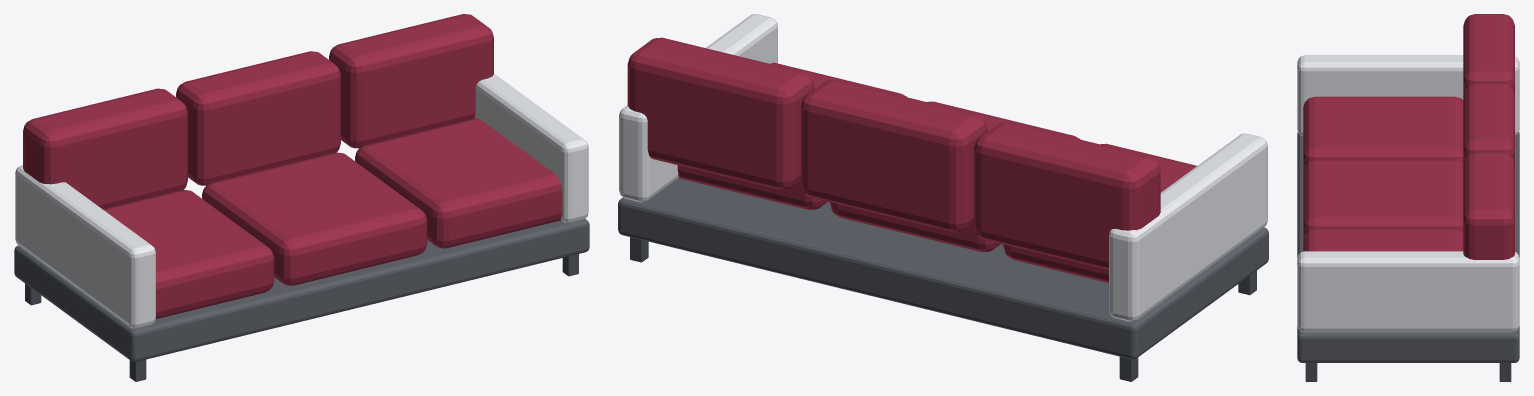
File: sofa_modular.glb
3 renders of one model, left to right at view 1: azimuth 30°, elevation 25°; view 2: azimuth 150°, elevation 25°; view 3: azimuth 270°, elevation 25°, orthographic. The views are drawn at different scales.
Visible parts, largest first — view 1: GD_sofa_modular__m2, GD_sofa_modular__m0, GD_sofa_modular__m3, GD_sofa_modular__m1; view 2: GD_sofa_modular__m2, GD_sofa_modular__m0, GD_sofa_modular__m3, GD_sofa_modular__m1; view 3: GD_sofa_modular__m2, GD_sofa_modular__m3, GD_sofa_modular__m0, GD_sofa_modular__m1.
Boxes of the visible parts, bbox=[...] form: GD_sofa_modular__m2: bbox=[23, 14, 562, 318]; GD_sofa_modular__m0: bbox=[14, 219, 589, 361]; GD_sofa_modular__m3: bbox=[15, 73, 588, 328]; GD_sofa_modular__m1: bbox=[25, 254, 578, 381]; GD_sofa_modular__m2: bbox=[627, 37, 1196, 282]; GD_sofa_modular__m0: bbox=[618, 178, 1268, 359]; GD_sofa_modular__m3: bbox=[619, 14, 1267, 321]; GD_sofa_modular__m1: bbox=[630, 237, 1256, 381]; GD_sofa_modular__m2: bbox=[1303, 14, 1514, 259]; GD_sofa_modular__m3: bbox=[1297, 55, 1519, 332]; GD_sofa_modular__m0: bbox=[1297, 132, 1519, 362]; GD_sofa_modular__m1: bbox=[1305, 363, 1511, 381].
Bounding box in the file's own units: 2.1 × 0.8 × 0.95.
